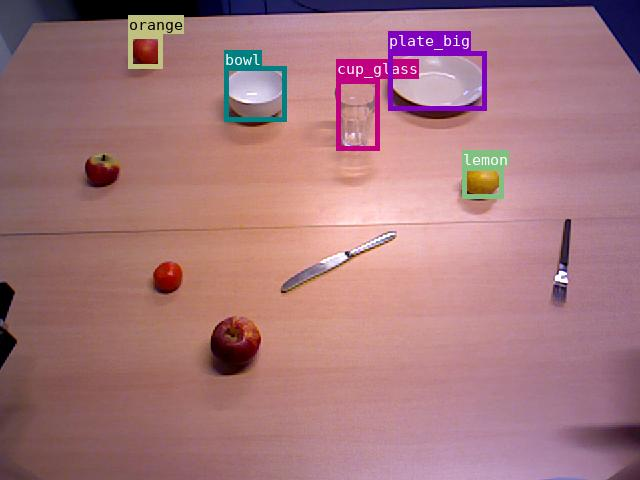bowl: (224, 66, 286, 121)
cup_glass: (336, 79, 379, 150)
lemon: (462, 166, 503, 198)
orange: (128, 34, 162, 68)
plate_big: (388, 51, 486, 110)
